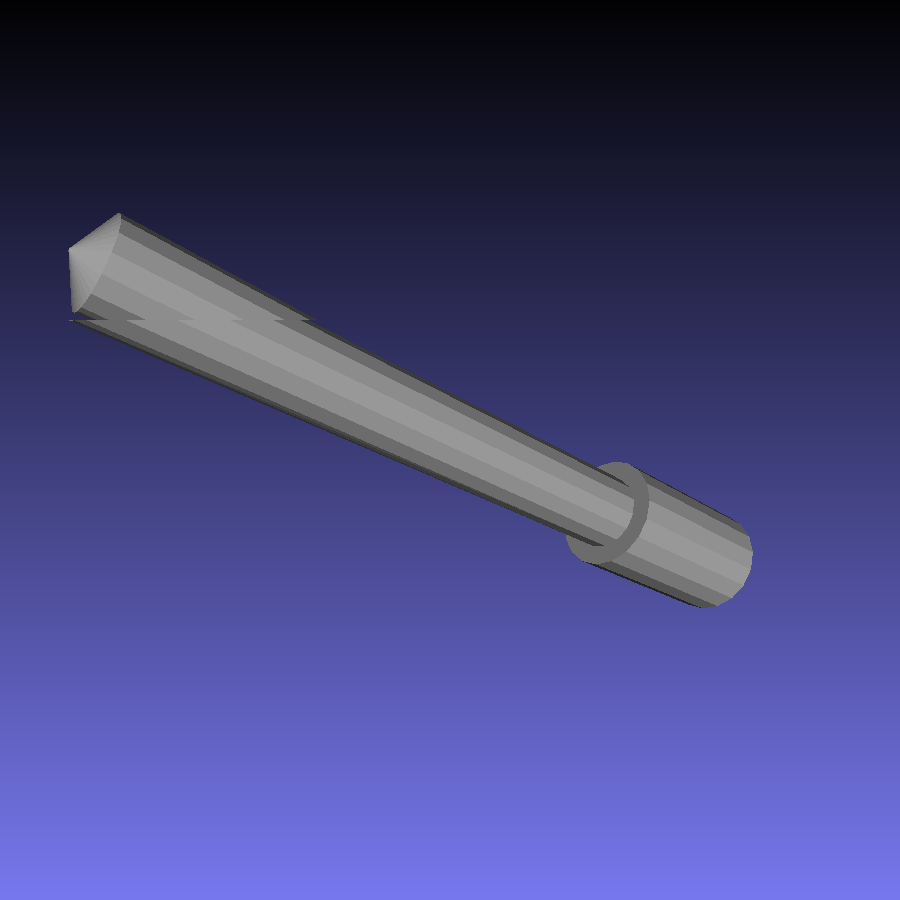cargo_g: (67, 211, 754, 608)
